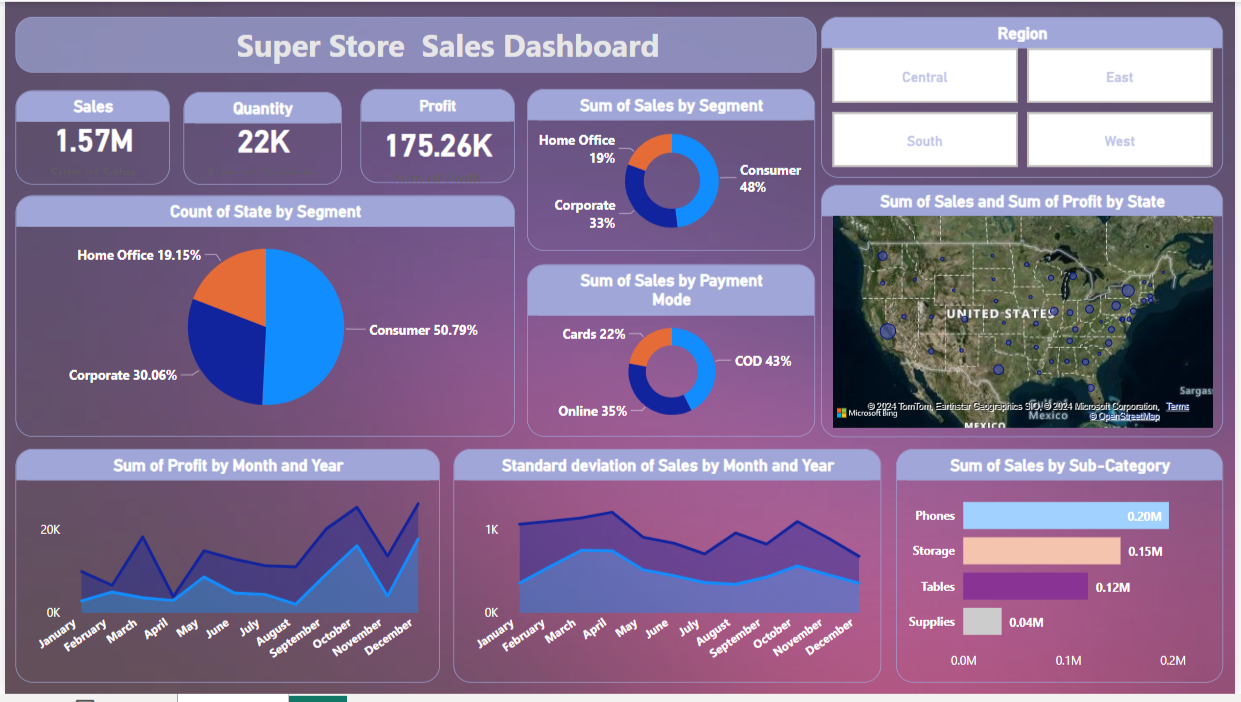

What the dashboard file says about the page in this screenshot:
{"tool":"powerbi","page":{"name":"Result","canvas":[1280,720],"ordinal":0},"visuals":[{"type":"clusteredBarChart","fields":{"Y":["Sum(SuperStore_Sales_Dataset.Sales)"],"Category":["SuperStore_Sales_Dataset.Sub-Category"]},"box":[927.7,465.4,340.5,243.6],"z":0},{"type":"textbox","box":[11,15,834,57.8],"z":1000},{"type":"donutChart","fields":{"Category":["SuperStore_Sales_Dataset.Payment Mode"],"Y":["Sum(SuperStore_Sales_Dataset.Sales)"]},"box":[543.5,273.3,299.9,179.6],"z":2000},{"type":"donutChart","fields":{"Category":["SuperStore_Sales_Dataset.Segment"],"Y":["Sum(SuperStore_Sales_Dataset.Sales)"]},"box":[543.5,90.6,299.9,168.7],"z":3000},{"type":"stackedAreaChart","fields":{"Category":["SuperStore_Sales_Dataset.Order Date.Variation.Date Hierarchy.Month"],"Y":["Sum(SuperStore_Sales_Dataset.Sales)"],"Series":["SuperStore_Sales_Dataset.Order Date.Variation.Date Hierarchy.Year"]},"box":[467,465.4,445.1,243.6],"z":4000},{"type":"stackedAreaChart","fields":{"Y":["Sum(SuperStore_Sales_Dataset.Profit)"],"Category":["SuperStore_Sales_Dataset.Order Date.Variation.Date Hierarchy.Month","SuperStore_Sales_Dataset.Order Date.Variation.Date Hierarchy.Day"],"Series":["SuperStore_Sales_Dataset.Order Date.Variation.Date Hierarchy.Year"]},"box":[10.9,465.4,442,243.6],"z":5000},{"type":"map","fields":{"Category":["SuperStore_Sales_Dataset.State"],"Size":["Sum(SuperStore_Sales_Dataset.Sales)"]},"box":[849.6,190.5,418.6,262.4],"z":6000},{"type":"advancedSlicerVisual","fields":{"Values":["SuperStore_Sales_Dataset.Region"]},"box":[849.6,15.6,418.6,167.1],"z":7000},{"type":"card","title":"Sales","fields":{"Values":["Sum(SuperStore_Sales_Dataset.Sales)"]},"box":[11.3,92.6,160.6,98.3],"z":8000},{"type":"card","title":"Quantity","fields":{"Values":["Sum(SuperStore_Sales_Dataset.Quantity)"]},"box":[185.2,94.5,164.4,96.4],"z":9000},{"type":"card","title":"Profit","fields":{"Values":["Sum(SuperStore_Sales_Dataset.Profit)"]},"box":[370.4,90.7,160.6,98.3],"z":10000},{"type":"pieChart","fields":{"Category":["SuperStore_Sales_Dataset.Segment"],"Y":["CountNonNull(SuperStore_Sales_Dataset.State)"]},"box":[11.3,202.2,519.7,251.3],"z":11000}]}

Visuals, with their boxes in screenshot pixels (x1, y1, x2, y2), scaled from the page's 1280x720 canvas onto the 1241x702 screenshot:
clusteredBarChart - Sum(SuperStore_Sales_Dataset.Sales) x SuperStore_Sales_Dataset.Sub-Category: Rect(899, 454, 1230, 691)
textbox: Rect(11, 15, 819, 71)
donutChart - SuperStore_Sales_Dataset.Payment Mode x Sum(SuperStore_Sales_Dataset.Sales): Rect(527, 266, 818, 442)
donutChart - SuperStore_Sales_Dataset.Segment x Sum(SuperStore_Sales_Dataset.Sales): Rect(527, 88, 818, 253)
stackedAreaChart - SuperStore_Sales_Dataset.Order Date.Variation.Date Hierarchy.Month x Sum(SuperStore_Sales_Dataset.Sales): Rect(453, 454, 884, 691)
stackedAreaChart - Sum(SuperStore_Sales_Dataset.Profit) x SuperStore_Sales_Dataset.Order Date.Variation.Date Hierarchy.Month: Rect(11, 454, 439, 691)
map - SuperStore_Sales_Dataset.State x Sum(SuperStore_Sales_Dataset.Sales): Rect(824, 186, 1230, 442)
advancedSlicerVisual - SuperStore_Sales_Dataset.Region: Rect(824, 15, 1230, 178)
"Sales" card: Rect(11, 90, 167, 186)
"Quantity" card: Rect(180, 92, 339, 186)
"Profit" card: Rect(359, 88, 515, 184)
pieChart - SuperStore_Sales_Dataset.Segment x CountNonNull(SuperStore_Sales_Dataset.State): Rect(11, 197, 515, 442)
